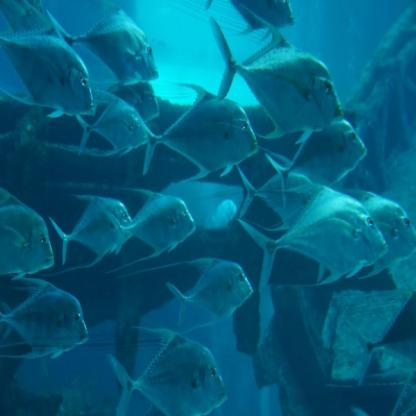Carangidae -Jacks-: (206, 13, 344, 151), (240, 177, 387, 299), (105, 311, 239, 416), (120, 74, 260, 174), (3, 272, 97, 384), (1, 20, 99, 117), (48, 4, 159, 82), (96, 187, 198, 261), (159, 247, 258, 321)
